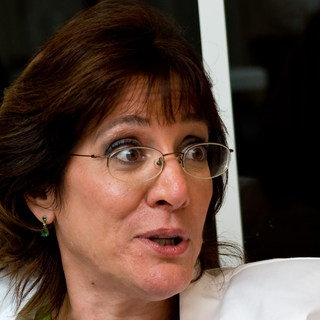eye: (101, 138, 146, 165), (175, 139, 211, 166)
